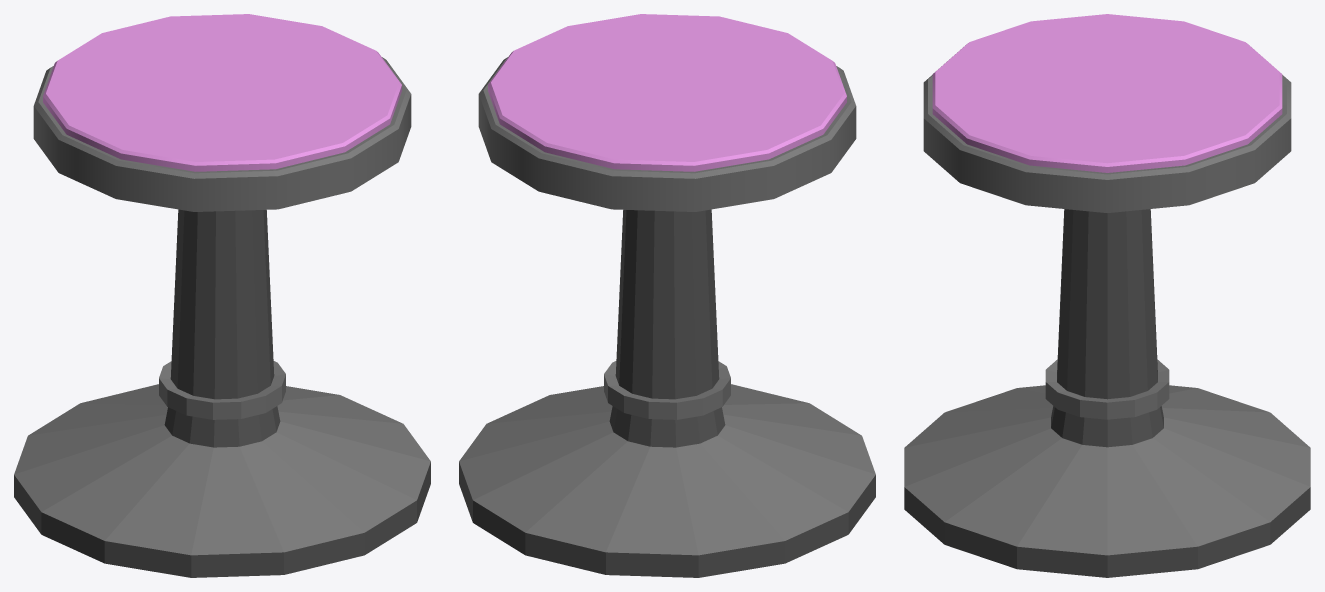
The model's file is Stool_FINAL_FBX.fbx.
3 renders of one model, left to right at view 1: azimuth 30°, elevation 25°; view 2: azimuth 150°, elevation 25°; view 3: azimuth 270°, elevation 25°, orthographic.
Parts seen in each view (by area): view 1: Stool; view 2: Stool; view 3: Stool.
Part boxes in pixels (x1=…): Stool: x1=14, y1=14, x2=430, y2=577; Stool: x1=459, y1=14, x2=875, y2=577; Stool: x1=904, y1=14, x2=1310, y2=577.
Bounding box in the file's own units: 2.32 × 2.47 × 2.26.
